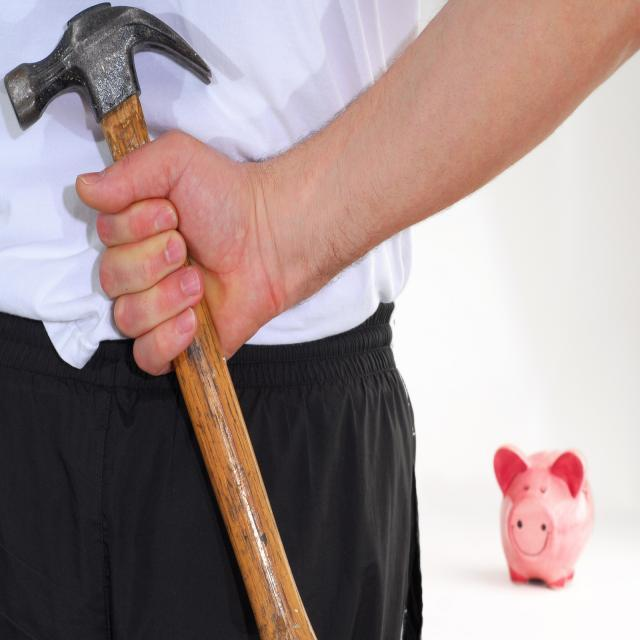hammer: (2, 0, 319, 638)
